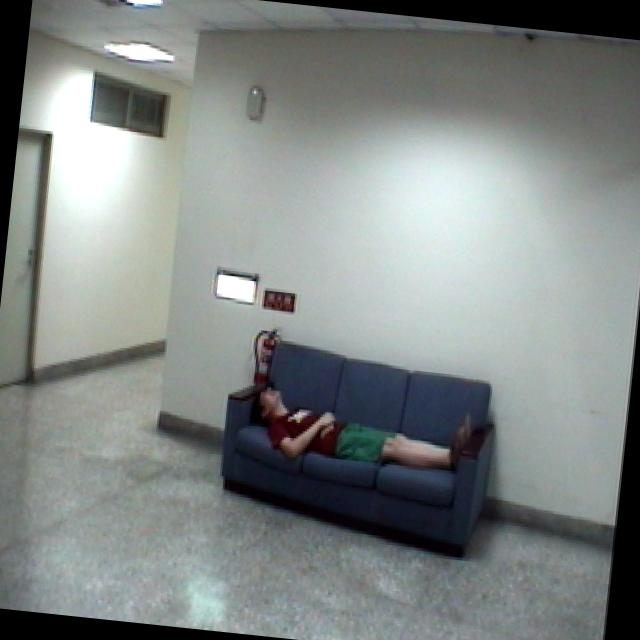lie: (245, 370, 478, 492)
